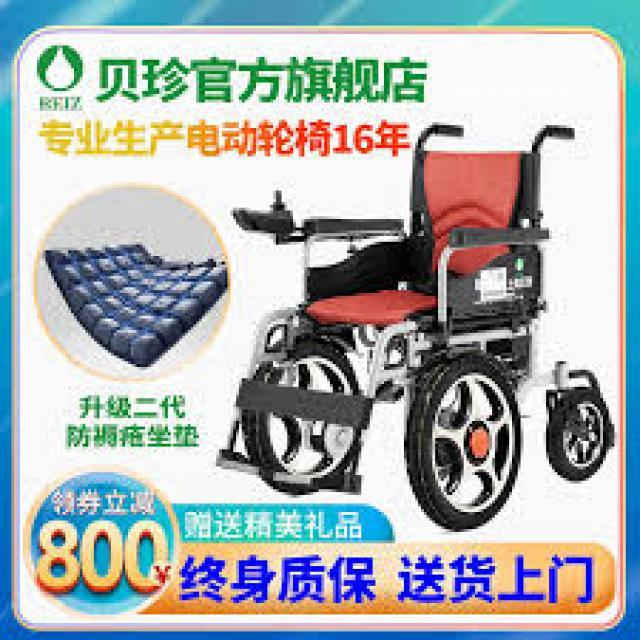wheelchair: (213, 100, 620, 524)
